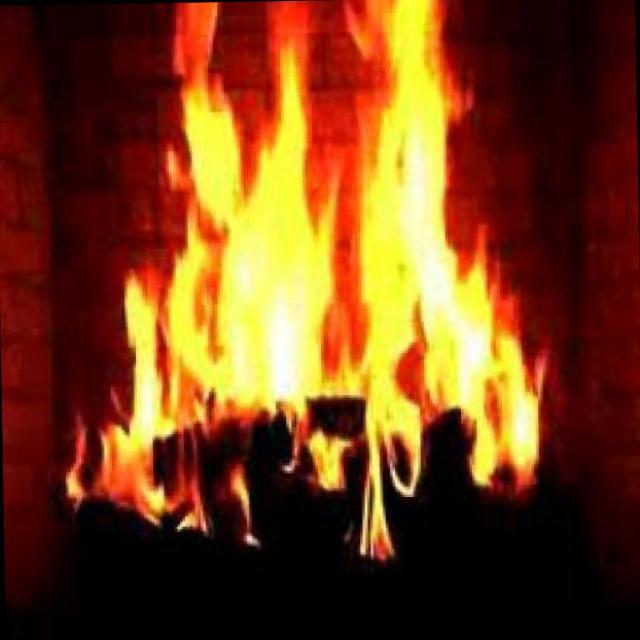Fire: (163, 36, 534, 498)
